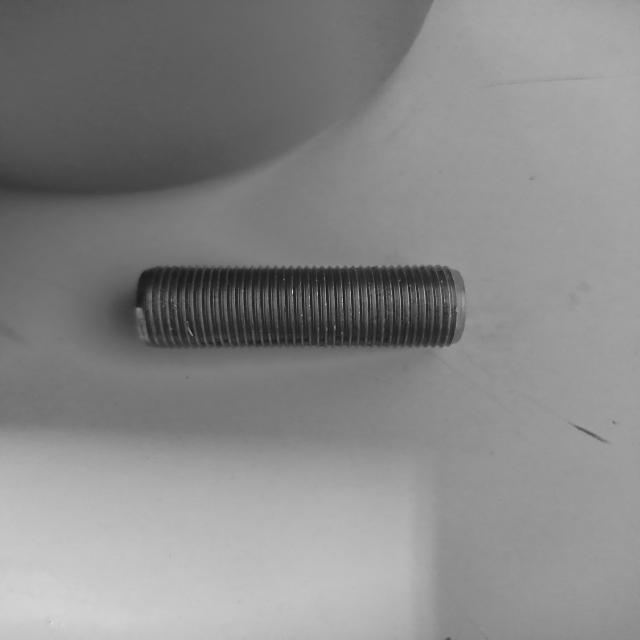Normal: (138, 264, 468, 350)
